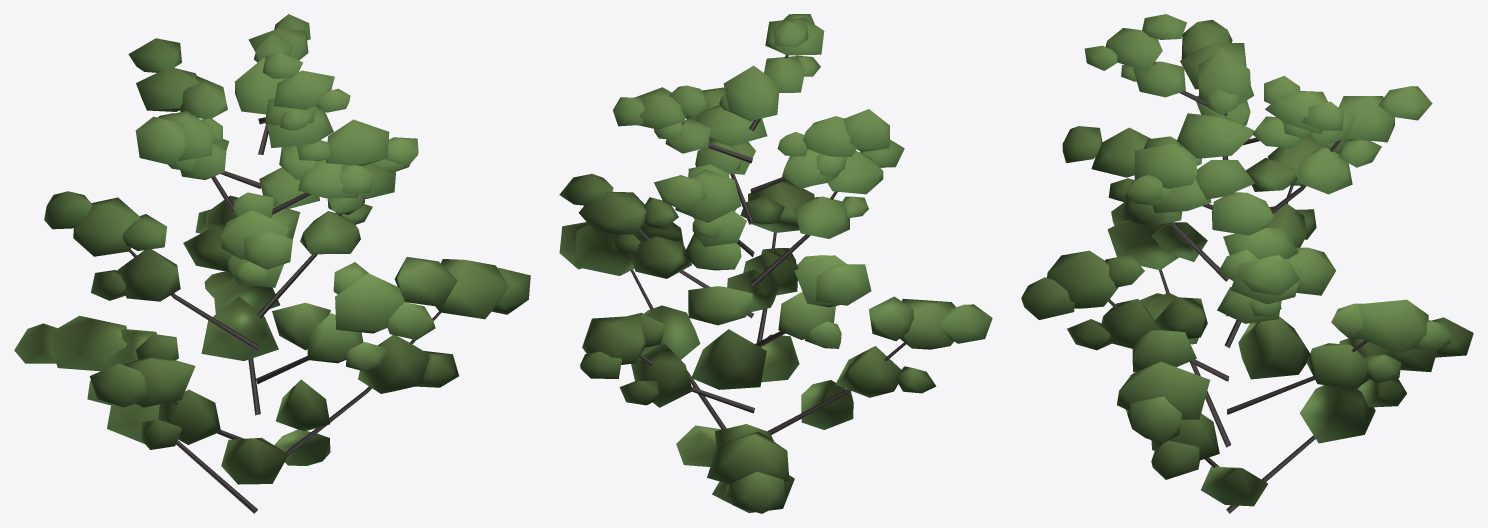
The model's file is birch_crown.glb.
3 views of the same model, side by side, from view 1: azimuth 30°, elevation 25°; view 2: azimuth 150°, elevation 25°; view 3: azimuth 270°, elevation 25° (orthographic). The views are drawn at different scales.
Visible parts, largest first — view 1: birch_crown; view 2: birch_crown; view 3: birch_crown.
Part boxes in pixels (box(x1,y1,x2,y2)): birch_crown: box(14, 14, 530, 513); birch_crown: box(559, 14, 992, 513); birch_crown: box(1021, 14, 1473, 513).
Bounding box in the file's own units: 5.92 × 6.28 × 5.18.
